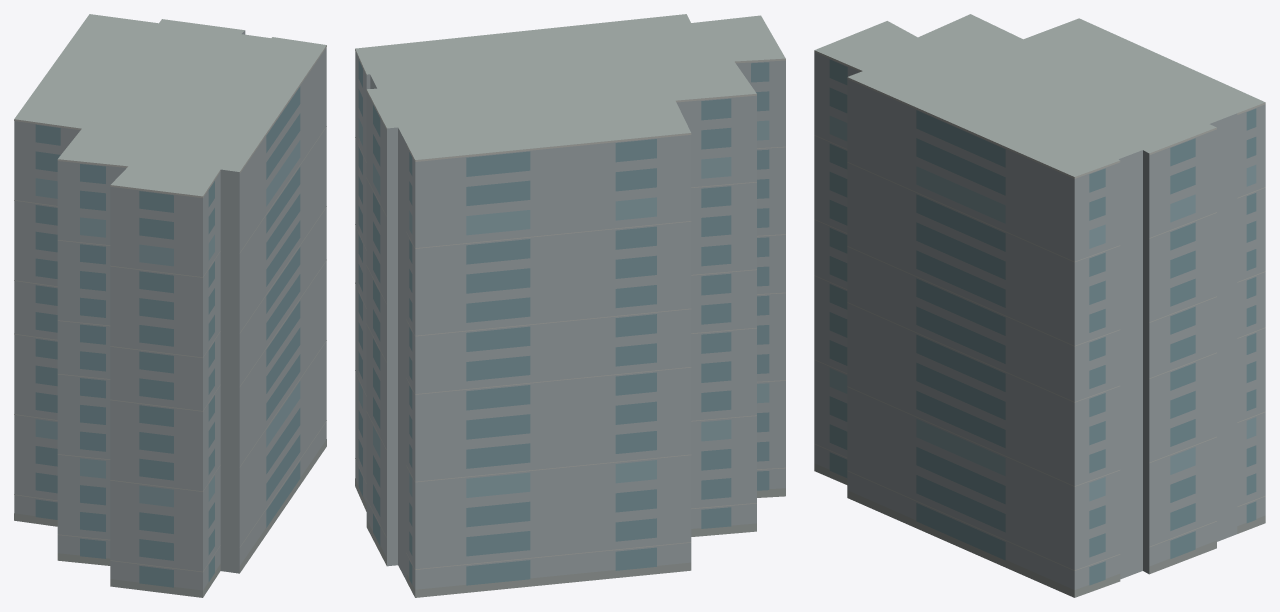
File: residential-7706c211-215b-4c8f-b92b-8b2bb57b75ab.glb
3 views of the same model, side by side, from view 1: azimuth 30°, elevation 25°; view 2: azimuth 150°, elevation 25°; view 3: azimuth 270°, elevation 25° (orthographic). The views are drawn at different scales.
Parts seen in each view (by area): view 1: residential-7706c211-215b-4c8f-b92b-8b2bb57b75ab.tmp; view 2: residential-7706c211-215b-4c8f-b92b-8b2bb57b75ab.tmp; view 3: residential-7706c211-215b-4c8f-b92b-8b2bb57b75ab.tmp.
Part boxes in pixels (box(x1,y1,x2,y2)): residential-7706c211-215b-4c8f-b92b-8b2bb57b75ab.tmp: box(14, 14, 326, 597); residential-7706c211-215b-4c8f-b92b-8b2bb57b75ab.tmp: box(355, 14, 785, 597); residential-7706c211-215b-4c8f-b92b-8b2bb57b75ab.tmp: box(814, 14, 1265, 597).
Size of the model in its own units: 45.72 by 55 by 53.46.
